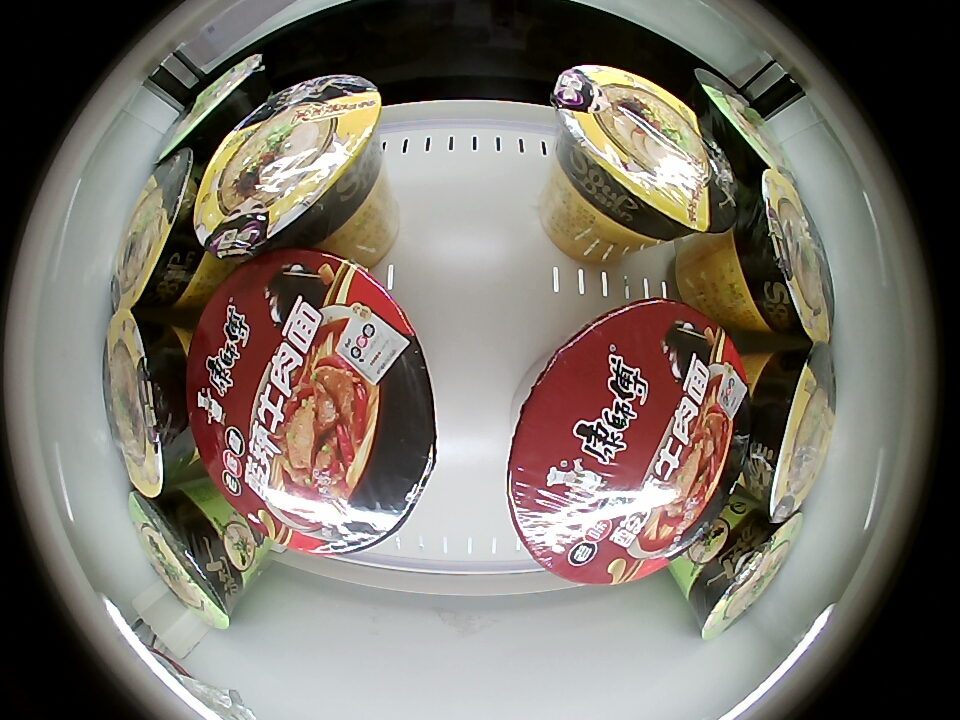suanlaniurou: (187, 251, 438, 552), (508, 298, 750, 585)
tangdaren: (128, 488, 246, 630), (686, 509, 804, 640), (153, 52, 269, 164), (691, 63, 796, 183)
tangdaren2: (195, 73, 383, 258), (552, 64, 733, 243), (732, 170, 835, 344), (103, 308, 197, 498), (740, 345, 837, 522), (108, 148, 207, 313)
